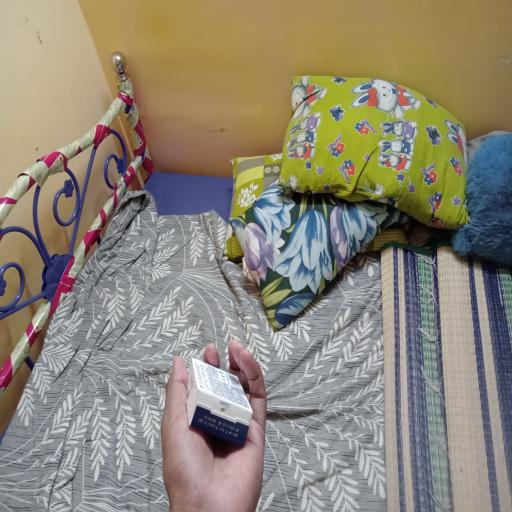Dove`1: (173, 356, 266, 445)
